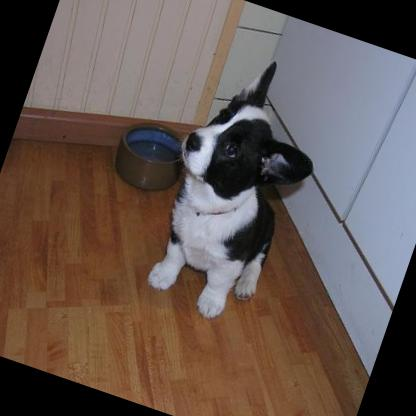Cardigan: (127, 37, 346, 340)
